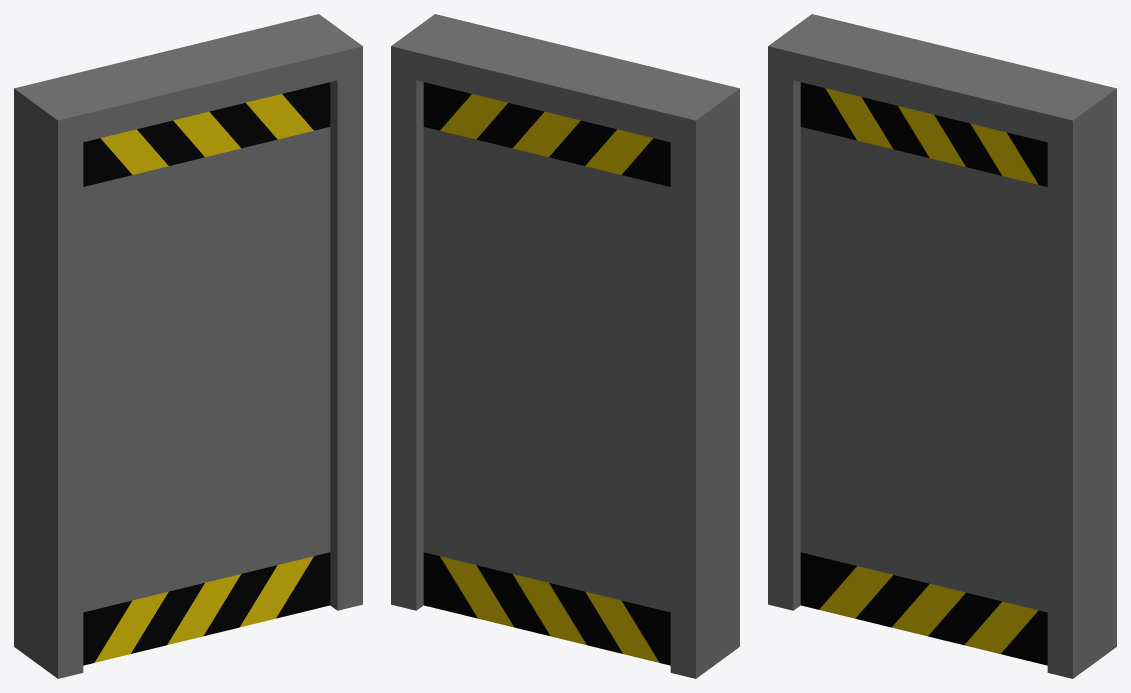
File: security_door.fbx
The picture shows the model from 3 angles, left to right: view 1: azimuth 30°, elevation 25°; view 2: azimuth 150°, elevation 25°; view 3: azimuth 330°, elevation 25°; orthographic projection.
Parts seen in each view (by area): view 1: door, doorway; view 2: door, doorway; view 3: door, doorway.
Part boxes in pixels (x1,y1,x2,y2): door: [83, 82, 330, 665]; doorway: [14, 14, 362, 678]; door: [423, 82, 670, 665]; doorway: [391, 14, 739, 678]; door: [800, 82, 1047, 665]; doorway: [768, 14, 1116, 678].
Bounding box in the file's own units: 240 × 420 × 60.
